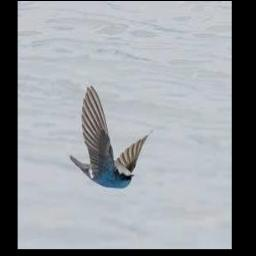Swallow: (69, 87, 151, 190)
